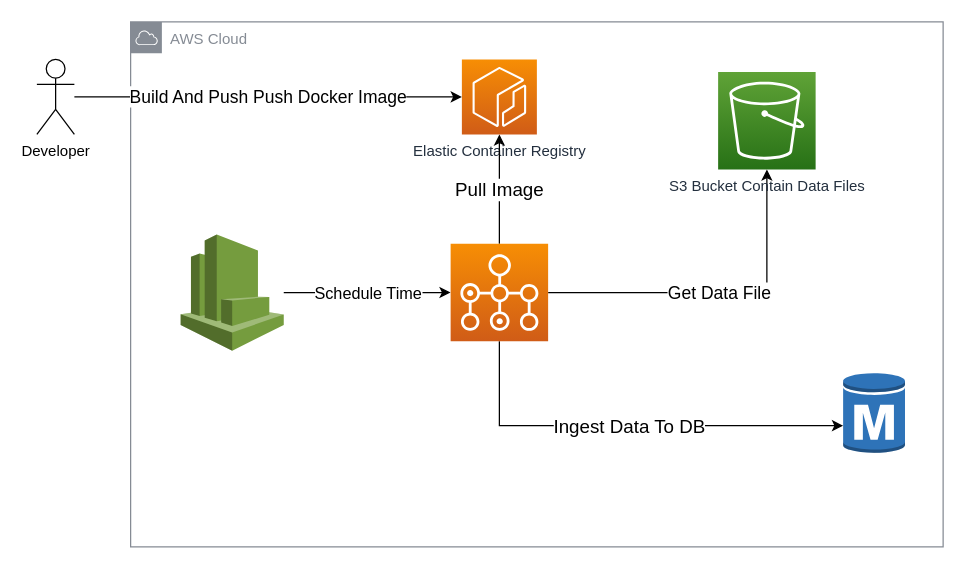
The diagram is 965 pixels wide and 569 high, and some of its shapes have lost their labels. The centre of each missing label's shape, as x and y in pixels:
"AWS Batch" belongs at pixel 498 291.
"Cloud watch rules" belongs at pixel 231 292.
